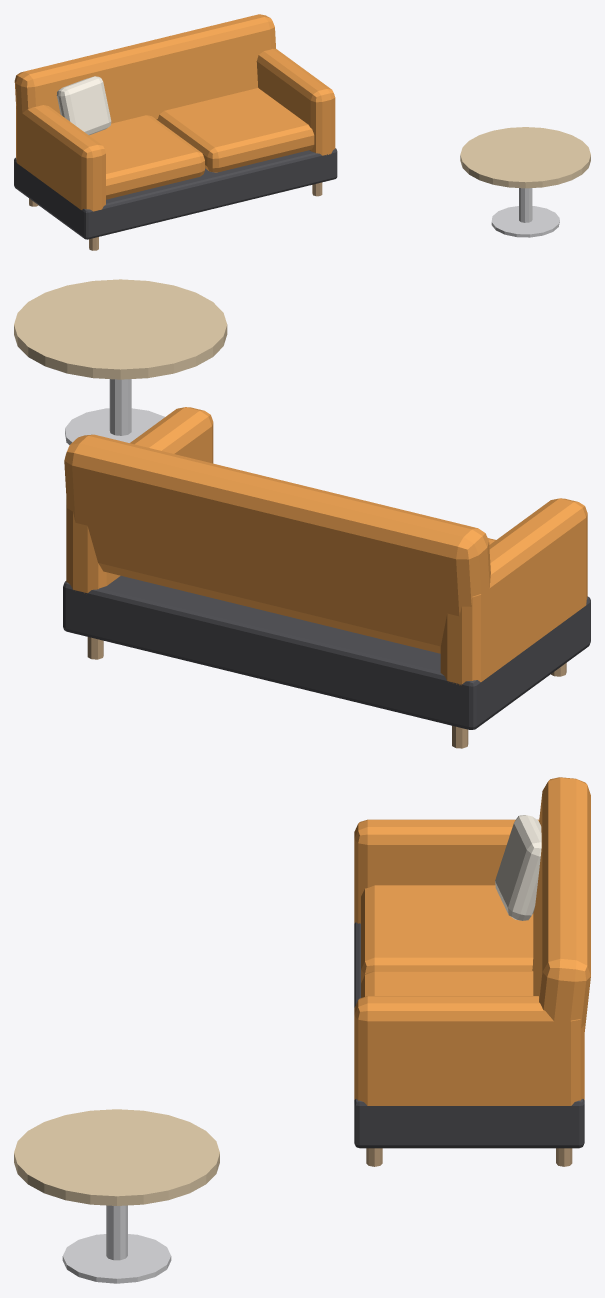
File: sofa_lounge.glb
The picture shows the model from 3 angles, top to bottom: view 1: azimuth 30°, elevation 25°; view 2: azimuth 150°, elevation 25°; view 3: azimuth 270°, elevation 25°; orthographic projection. The views are drawn at different scales.
Parts seen in each view (by area): view 1: sofa_lounge, coffee_table_round; view 2: sofa_lounge, coffee_table_round; view 3: sofa_lounge, coffee_table_round.
Part boxes in pixels (x1,y1,x2,y2): sofa_lounge: (14, 14, 337, 250); coffee_table_round: (460, 127, 590, 237); sofa_lounge: (63, 407, 590, 748); coffee_table_round: (14, 279, 227, 444); sofa_lounge: (354, 777, 590, 1166); coffee_table_round: (14, 1109, 219, 1283).
Bounding box in the file's own units: 2.83 × 0.8517 × 2.13.
